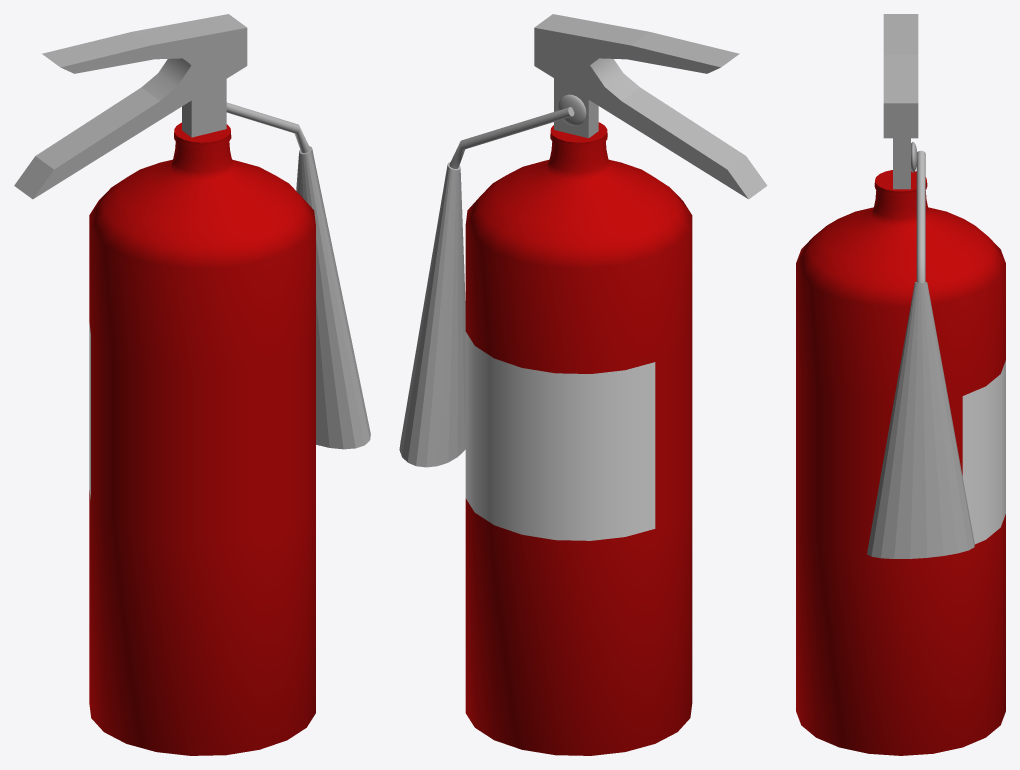
The model's file is fireExtinguisher2.fbx.
The picture shows the model from 3 angles, left to right: view 1: azimuth 30°, elevation 25°; view 2: azimuth 150°, elevation 25°; view 3: azimuth 270°, elevation 25°; orthographic projection. The views are drawn at different scales.
Parts seen in each view (by area): view 1: body, handle, hose; view 2: body, handle, hose; view 3: body, hose, handle.
Boxes of the visible parts, x1,y1,x2,y2 form: body: [89, 122, 315, 755]; handle: [14, 14, 247, 199]; hose: [226, 102, 370, 449]; body: [465, 122, 692, 755]; handle: [534, 14, 767, 199]; hose: [399, 107, 574, 467]; body: [796, 170, 1005, 755]; hose: [867, 150, 974, 558]; handle: [883, 14, 918, 189].
Size of the model in its own units: 2.1 by 4.03 by 1.22.
